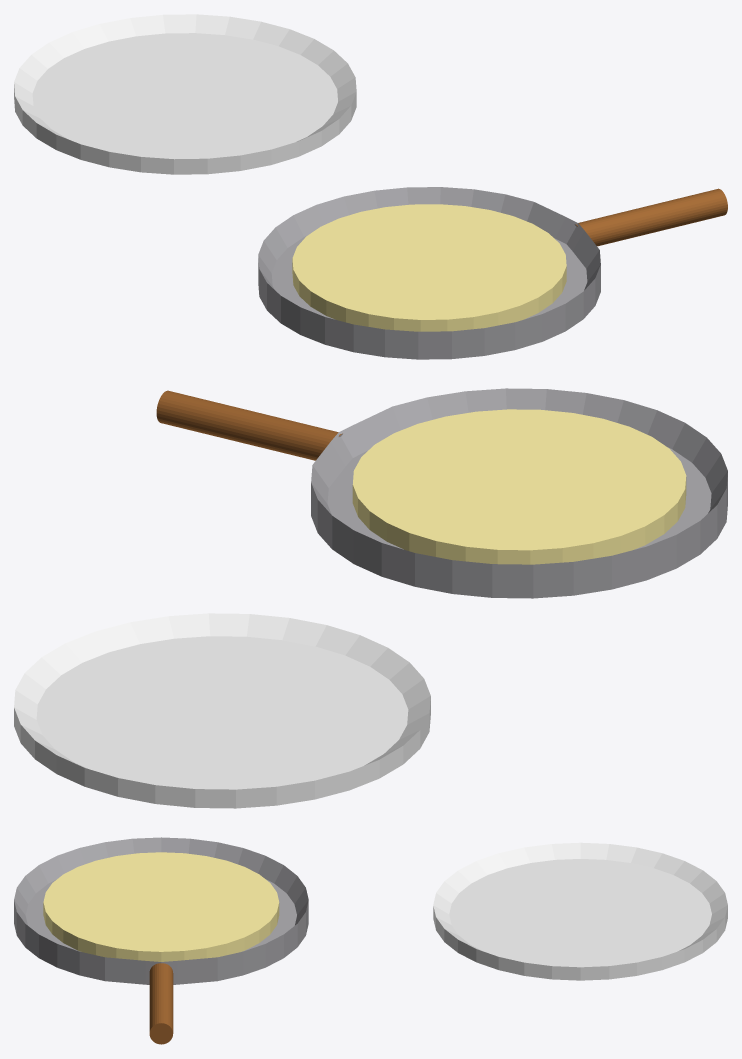
The model's file is pan.glb.
The picture shows the model from 3 angles, top to bottom: view 1: azimuth 30°, elevation 25°; view 2: azimuth 150°, elevation 25°; view 3: azimuth 270°, elevation 25°; orthographic projection. The views are drawn at different scales.
Parts seen in each view (by area): view 1: Plate, Pancake, Pan; view 2: Plate, Pancake, Pan; view 3: Plate, Pancake, Pan.
Boxes of the visible parts, bbox=[...] form: Plate: bbox=[14, 14, 356, 174]; Pancake: bbox=[292, 204, 566, 331]; Pan: bbox=[258, 187, 727, 359]; Plate: bbox=[14, 613, 430, 808]; Pancake: bbox=[352, 409, 686, 564]; Pan: bbox=[156, 388, 727, 598]; Plate: bbox=[433, 842, 727, 980]; Pancake: bbox=[43, 852, 279, 961]; Pan: bbox=[14, 837, 308, 1044].
Size of the model in its own units: 2.96 by 0.1789 by 4.84.
